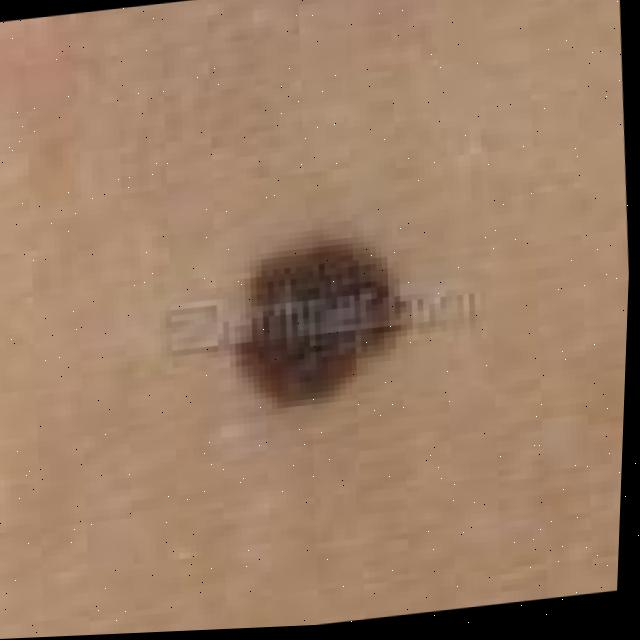Melasma: (222, 221, 410, 408)
